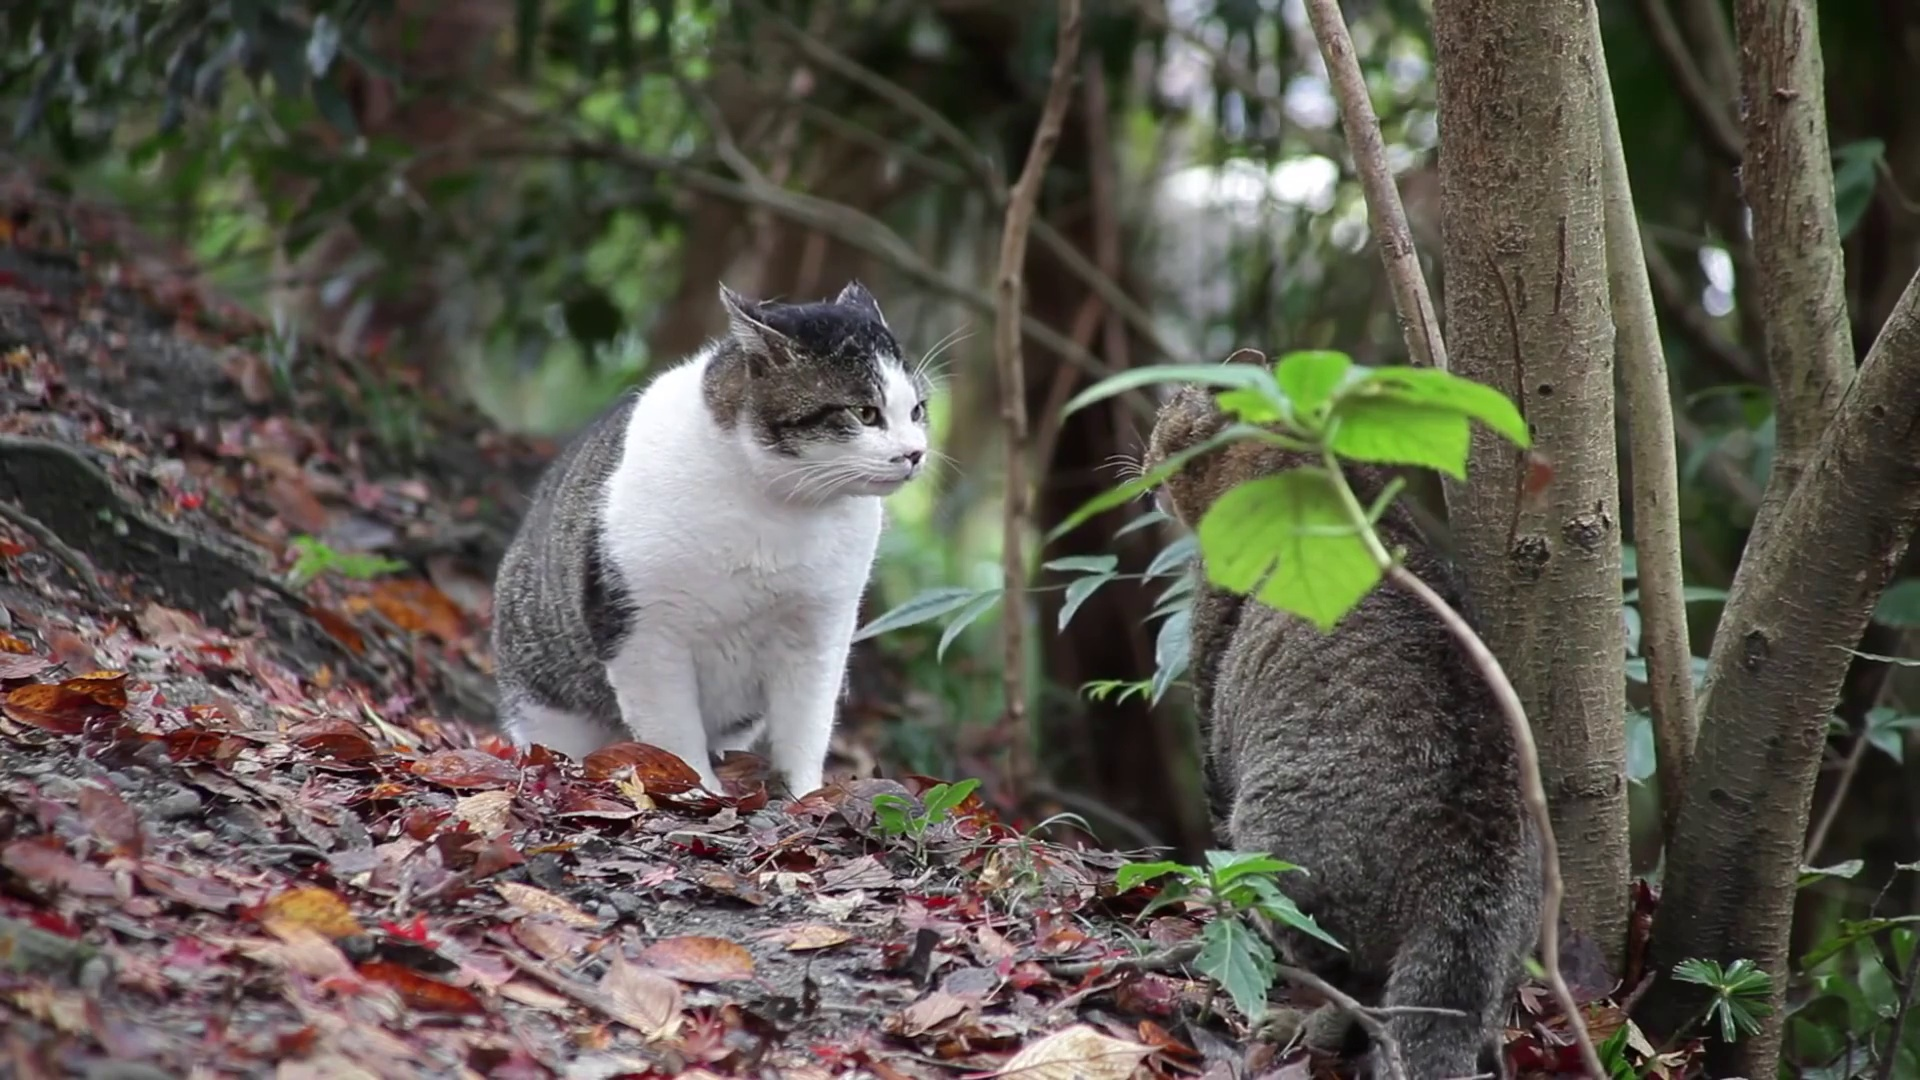black-white: (488, 280, 927, 803)
pure black: (1142, 347, 1544, 1080)
